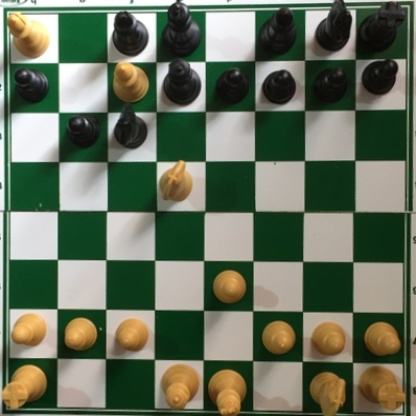black-bishop: (254, 5, 297, 53), (110, 7, 150, 57)
black-king: (161, 1, 202, 57)
black-knight: (312, 1, 354, 52), (111, 102, 150, 150)
black-pawn: (309, 66, 348, 108), (9, 67, 52, 104), (361, 56, 399, 95), (213, 66, 249, 105), (262, 68, 297, 105), (64, 114, 99, 148)
black-queen: (161, 56, 202, 108)
black-rook: (356, 1, 405, 51)
white-bishop: (5, 9, 51, 61), (108, 58, 151, 104)
white-king: (203, 366, 246, 416)
white-knight: (308, 368, 346, 416), (157, 159, 194, 204)
white-pawn: (362, 320, 401, 358), (8, 310, 49, 346), (260, 319, 298, 357), (62, 315, 100, 352), (210, 267, 248, 304), (309, 320, 347, 357), (113, 316, 152, 352)
white-queen: (159, 361, 200, 414)
white-rook: (355, 363, 406, 411), (1, 361, 48, 412)
